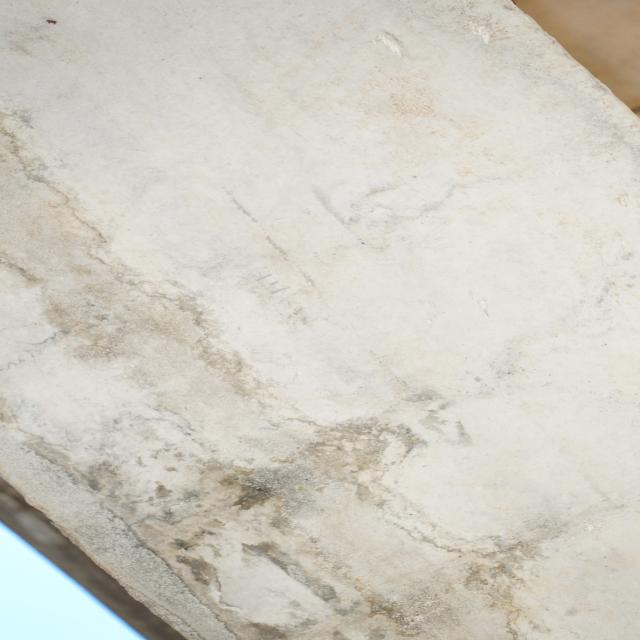diagonal crack: (0, 126, 109, 247), (0, 380, 75, 471), (127, 495, 199, 527), (213, 566, 243, 610)
